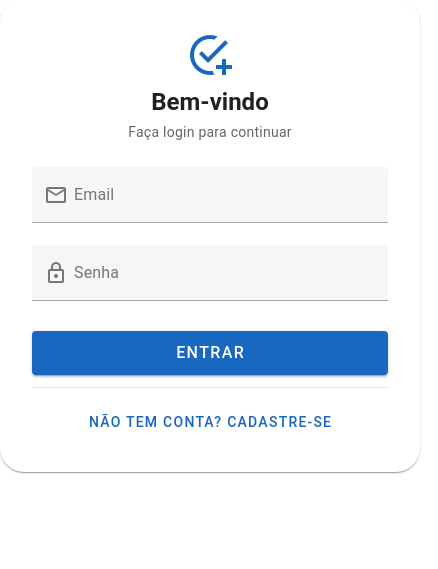
Scenario: LoginForm › clears validation messages when toggling modes
The image size is (438, 569).
Submit the form, box [32,167,388,375]
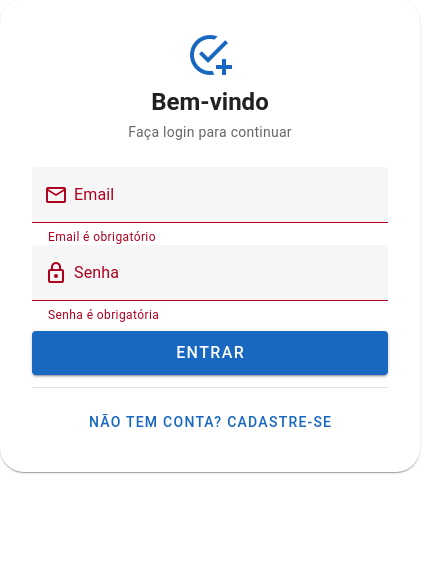
Result: the text "Email é obrigatório" is shown at [48,230,156,244]
Result: the text "Senha é obrigatória" is shown at [48,308,159,322]
Click the button "Não tem conta? Cadastre-se" at coordinates (210, 422), box [32,404,388,440]
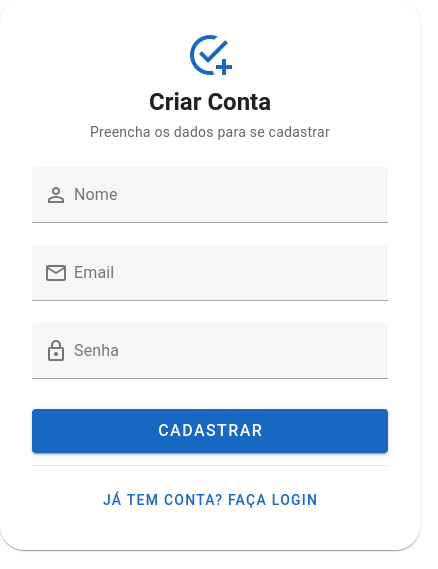
Result: the text "Email é obrigatório" is gone
Result: the text "Senha é obrigatória" is gone
